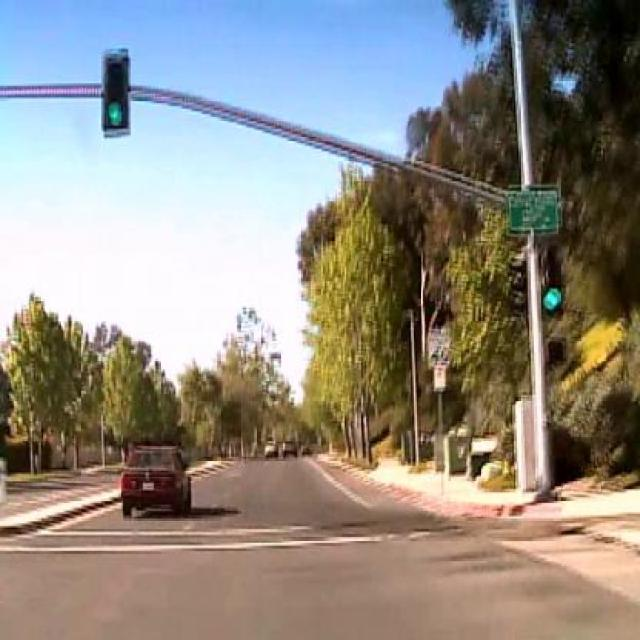speedLimit40: (426, 328, 452, 366)
